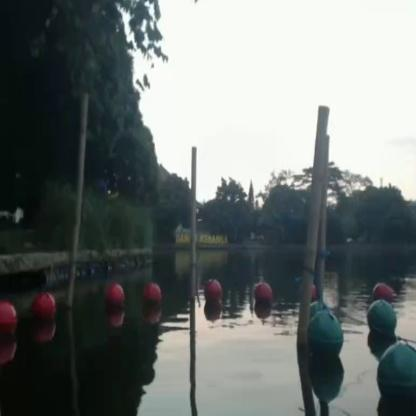green_buoy: (376, 341, 415, 412), (306, 312, 342, 364), (366, 302, 396, 340)
red_buoy: (253, 280, 273, 312), (203, 279, 223, 308), (0, 305, 17, 339), (36, 294, 55, 324), (106, 285, 124, 314), (143, 282, 161, 310), (372, 283, 392, 300)
